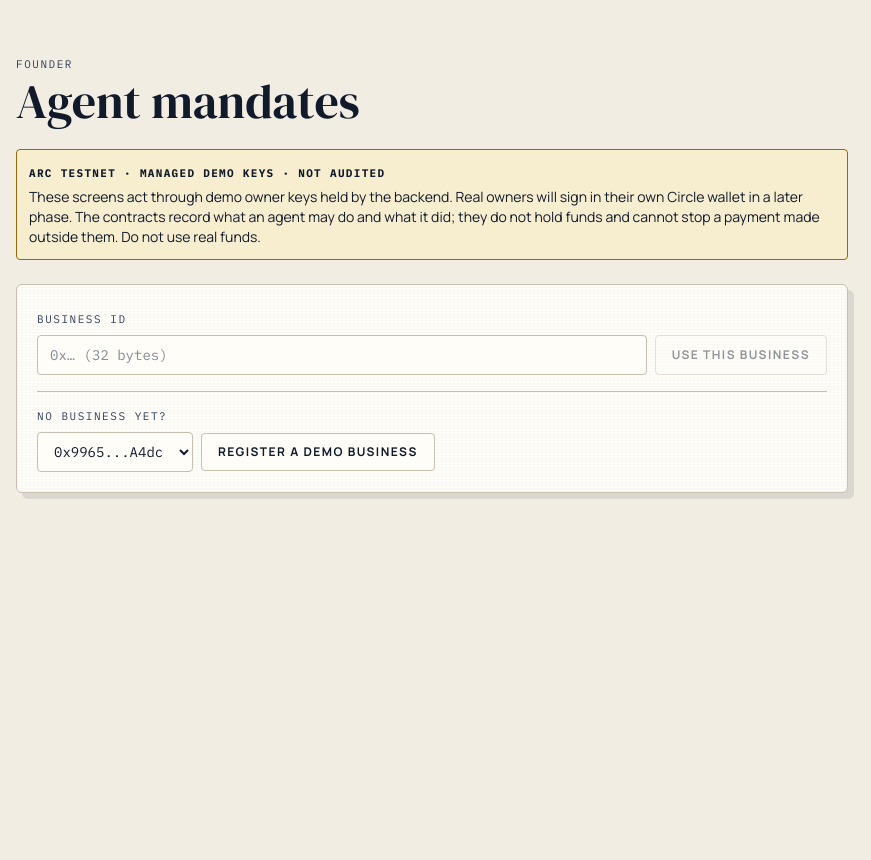
Test: Founder: mandates › without a business, offers to register a demo one with a managed owner and then shows the form
Expected: the text "Arc testnet · managed demo keys · not audited" is shown, x1=29 y1=166 x2=385 y2=180
Click the button "Register a demo business" at {"x": 318, "y": 452}, box x1=201 y1=433 x2=435 y2=471
(page scrolled)
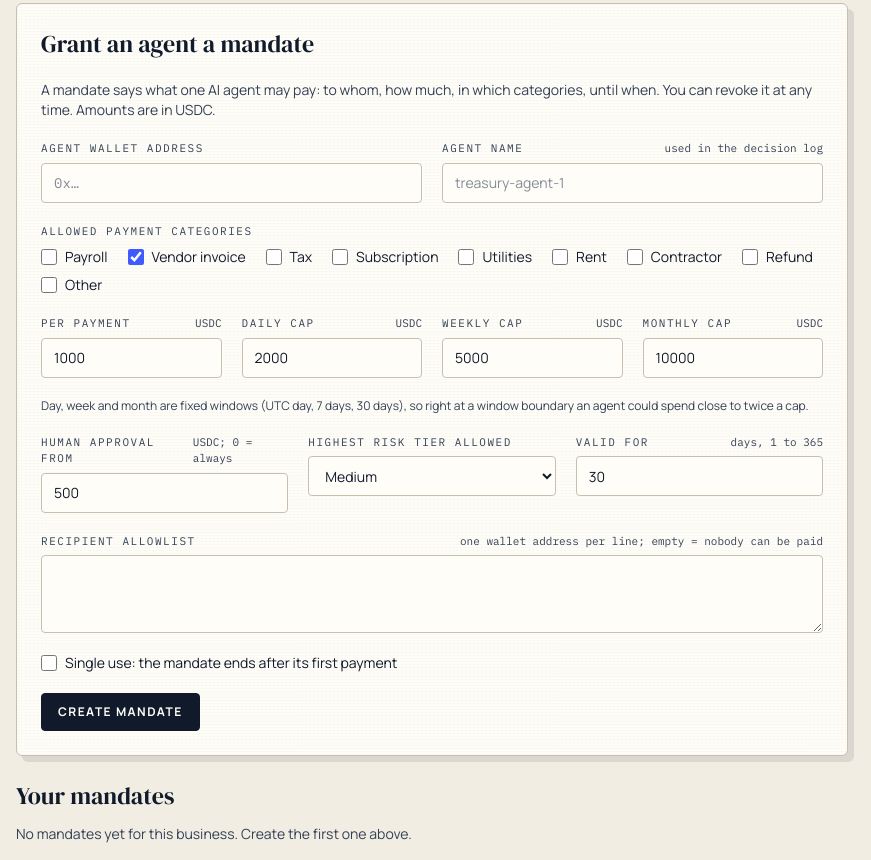
Now the form named "Create a mandate" is shown
Now the text "No mandates yet for this business" is shown, box x1=16 y1=824 x2=412 y2=843
